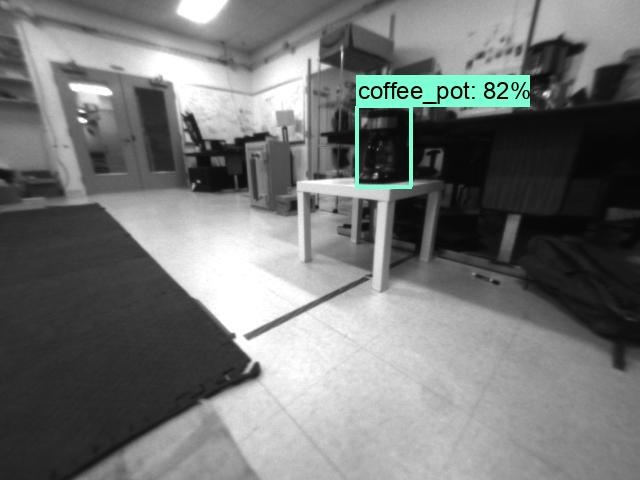coffee_pot: (357, 106, 414, 187)
